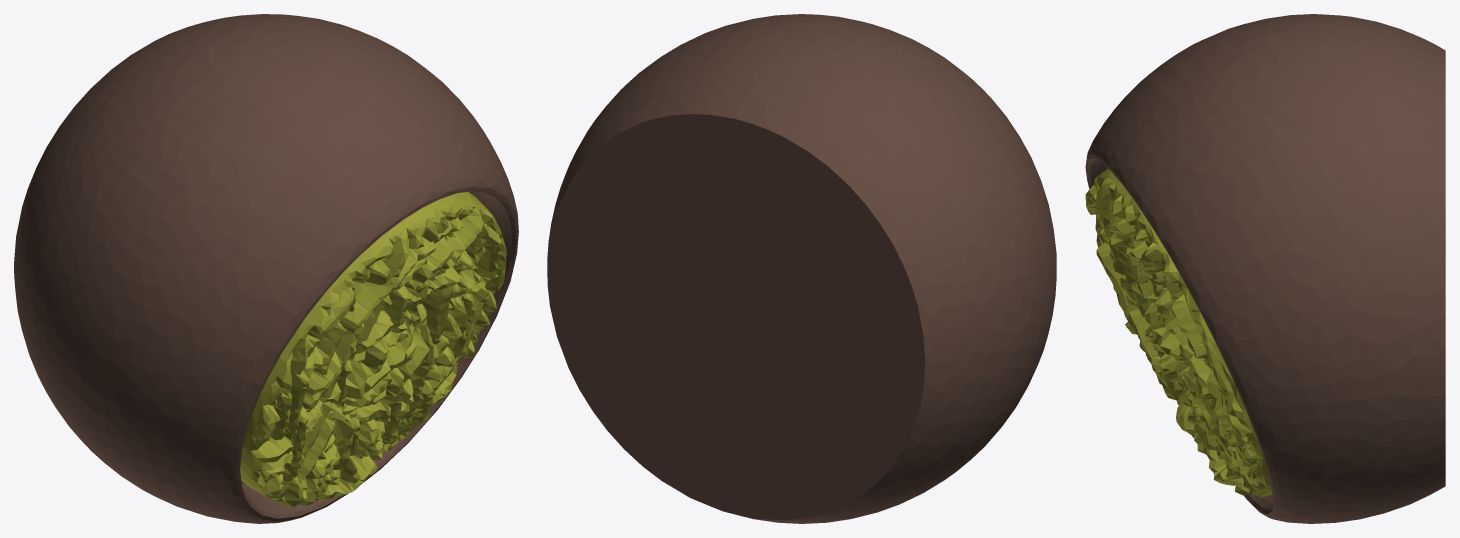
The model's file is dubai.glb.
3 views of the same model, side by side, from view 1: azimuth 30°, elevation 25°; view 2: azimuth 150°, elevation 25°; view 3: azimuth 270°, elevation 25° (orthographic).
Visible parts, largest first — view 1: Sphere.064, Circle.086; view 2: Sphere.064; view 3: Sphere.064, Circle.086.
Part boxes in pixels (<box>): Sphere.064: <box>14,14,518,523</box>; Circle.086: <box>240,191,506,507</box>; Sphere.064: <box>547,14,1056,523</box>; Sphere.064: <box>1085,14,1445,523</box>; Circle.086: <box>1085,168,1272,496</box>.
Size of the model in its own units: 16.09 by 16.1 by 11.38.
